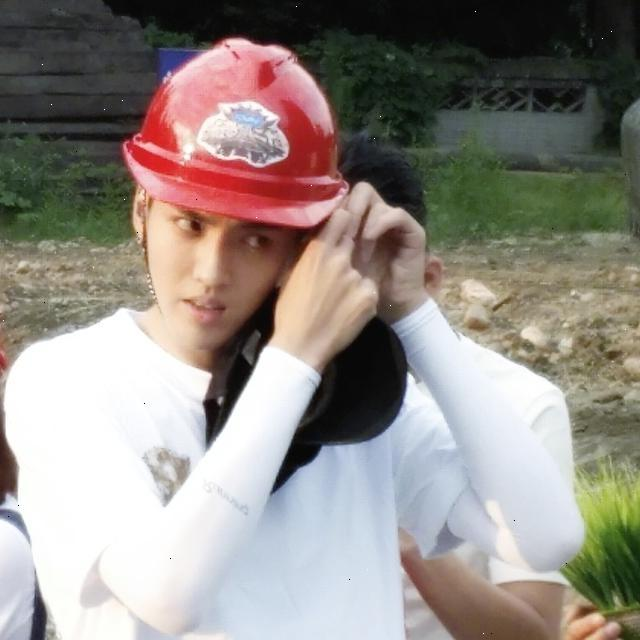helmet: (120, 24, 358, 250)
no_wear: (41, 361, 379, 640)
